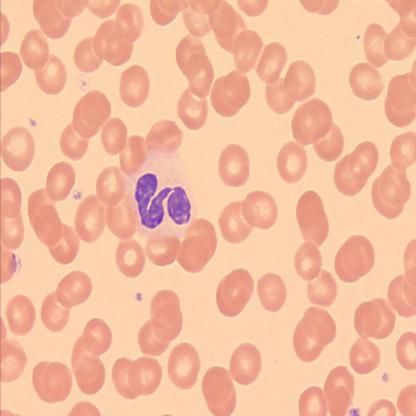Segmented neutrophil: (128, 144, 199, 238)
